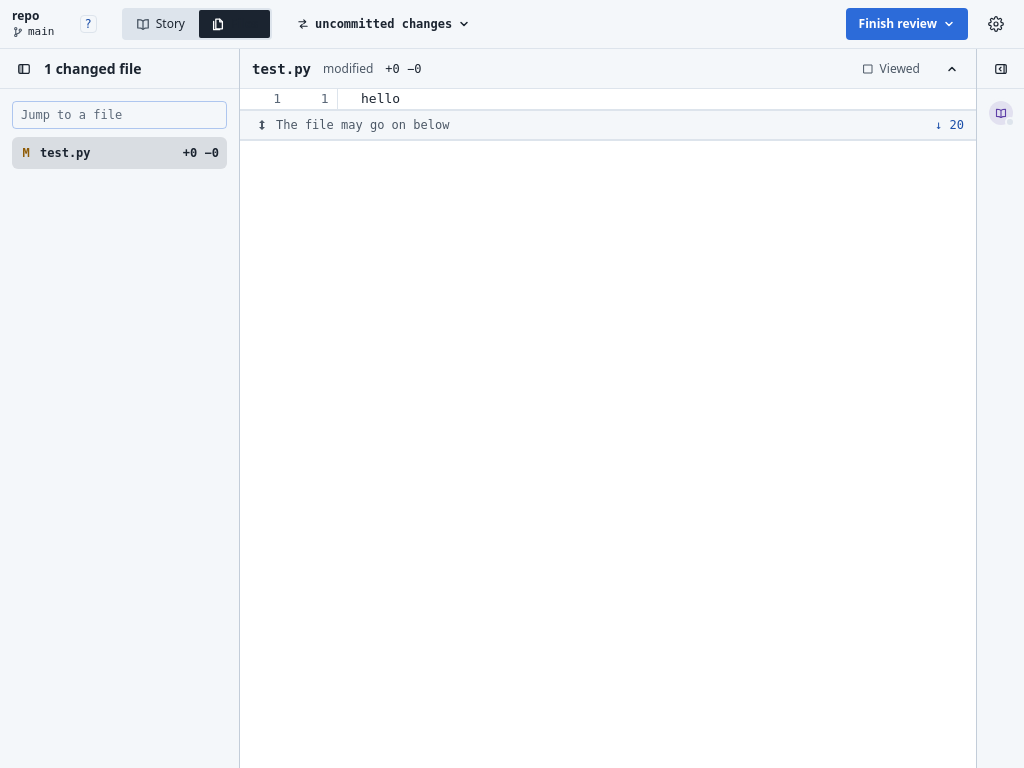
the pane the review is sent from › goes on Escape, hands the keyboard back to the button that opened it, and keeps the summary written in it
Click the button with test id "quick-submit" at (907, 24), box [846, 8, 968, 40]
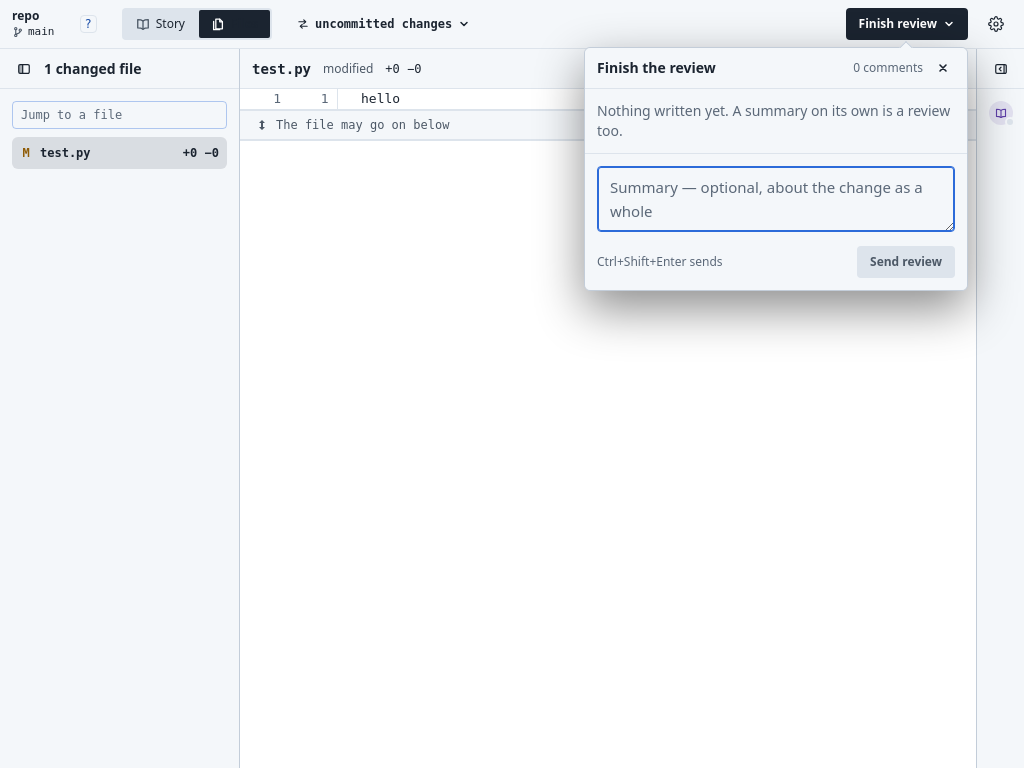
Type "Draft feedback" into the text box with test id "review-body" at (776, 199), box [597, 166, 955, 232]
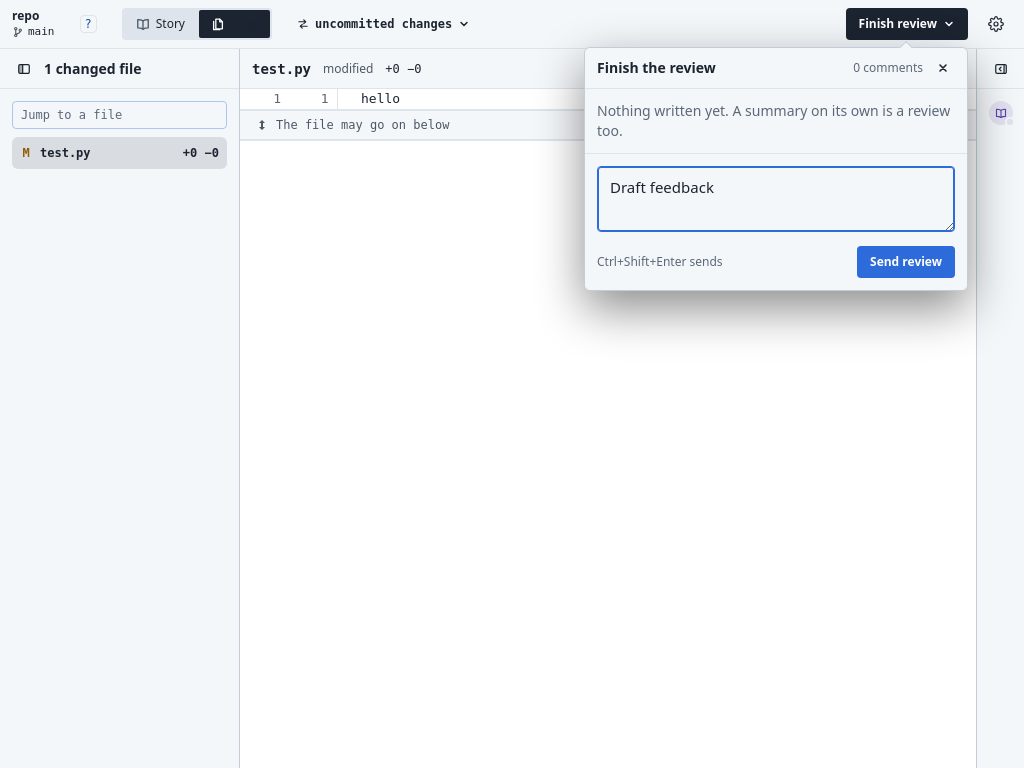
Press Escape
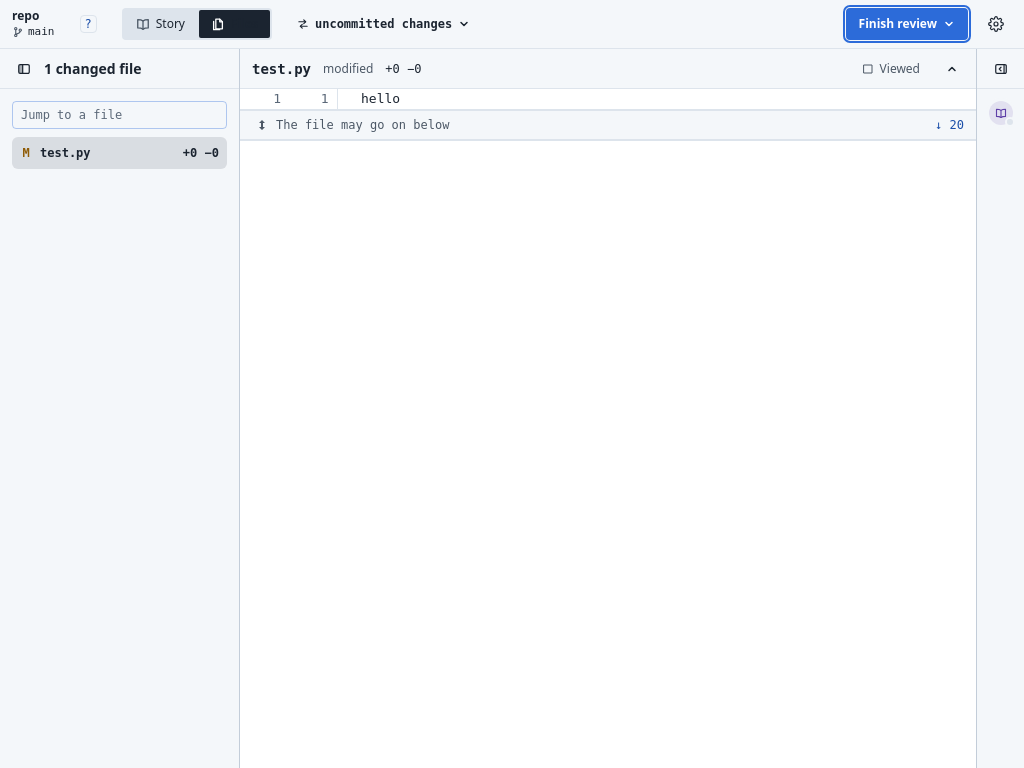
Expected: the dialog with test id "finish-review" is gone
Click the button with test id "quick-submit" at (907, 24), box [846, 8, 968, 40]
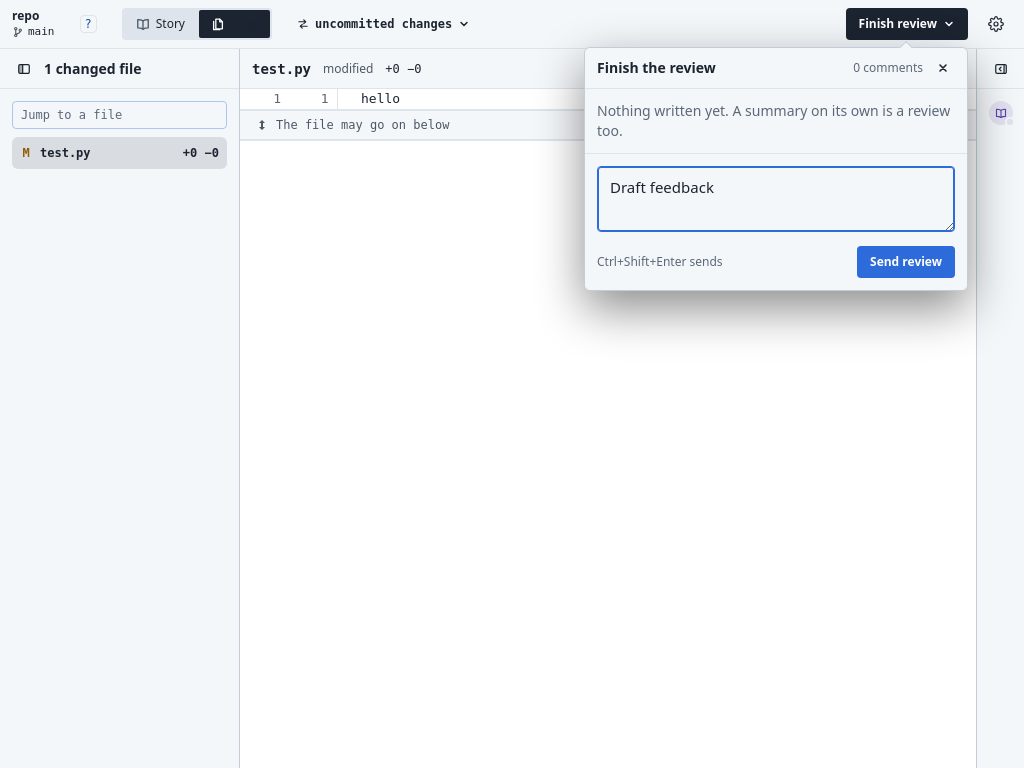
Expected: the text box with test id "review-body" holds "Draft feedback", [597, 166, 955, 232]
